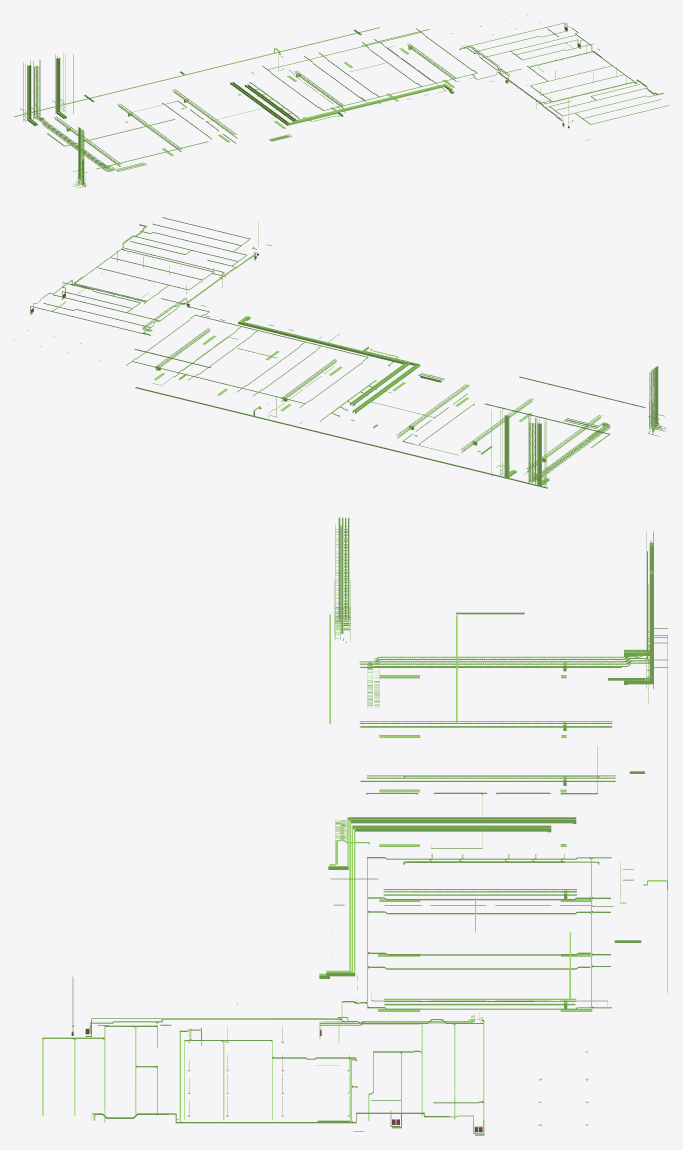
The model's file is detail-electrical-2-1f.glb.
3 renders of one model, top to bottom at view 1: azimuth 30°, elevation 25°; view 2: azimuth 150°, elevation 25°; view 3: azimuth 270°, elevation 25°, orthographic. The views are drawn at different scales.
Visible parts, largest first — view 1: containment; view 2: containment; view 3: containment.
Part boxes in pixels (bbox=[...]): containment: bbox=[14, 22, 668, 188]; containment: bbox=[30, 217, 665, 488]; containment: bbox=[42, 517, 667, 1135].
Bounding box in the file's own units: 136 × 15.53 × 72.55.
